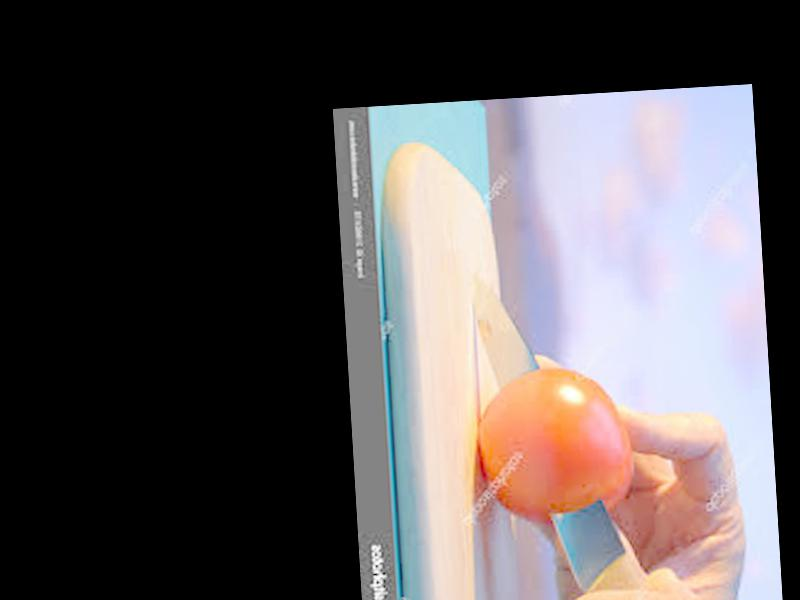Tomato: (471, 362, 634, 528)
